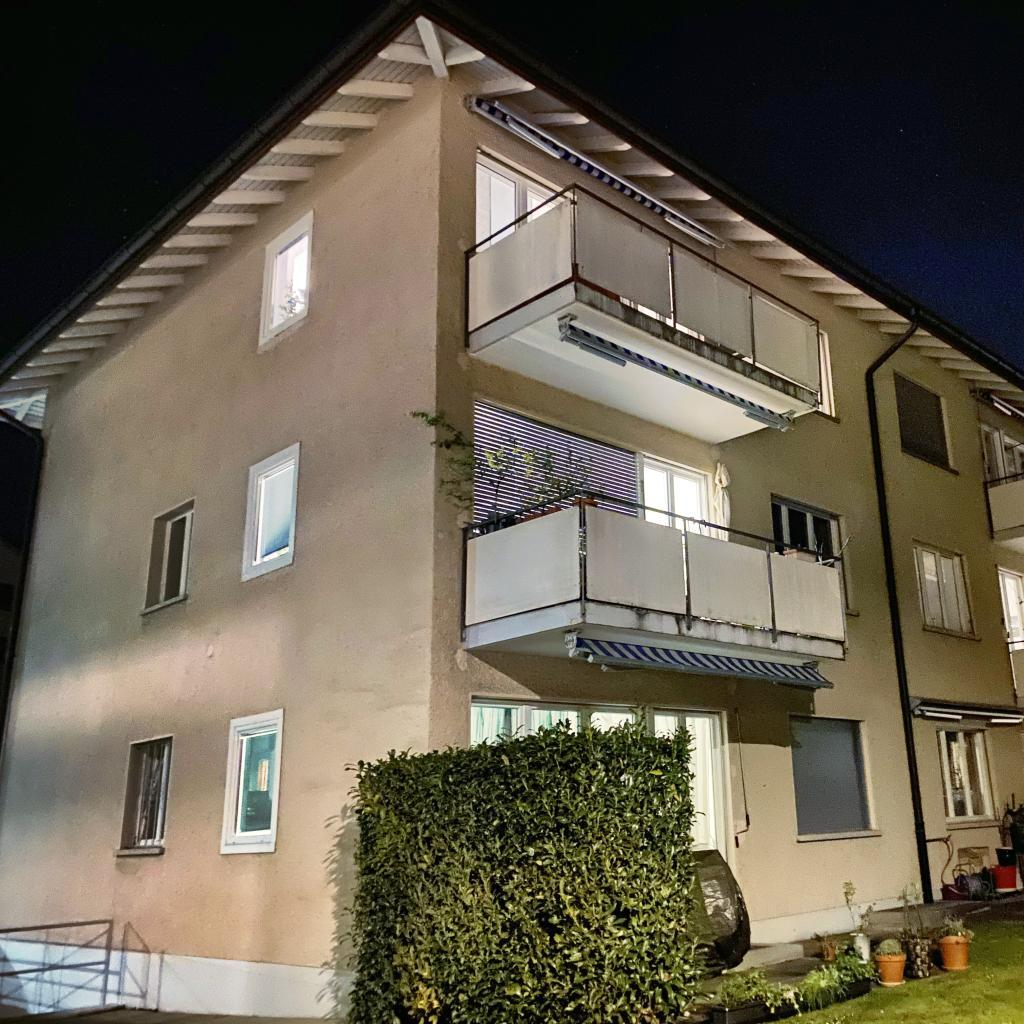balcony-fence: (462, 179, 824, 410), (459, 487, 847, 661)
fence: (0, 917, 116, 1020)
non-building-infrastructure: (924, 791, 1024, 901), (696, 850, 751, 980)
vegetation: (334, 701, 1024, 1024), (406, 407, 598, 516)
window: (471, 698, 726, 863), (474, 400, 638, 539), (789, 715, 871, 836), (476, 151, 567, 255), (935, 729, 996, 824), (893, 371, 950, 470), (913, 543, 974, 635), (645, 456, 709, 537), (771, 499, 842, 572), (251, 456, 294, 567), (234, 729, 277, 836), (133, 739, 172, 848), (269, 230, 309, 331), (158, 508, 194, 603), (979, 421, 1024, 489), (998, 569, 1024, 652)
